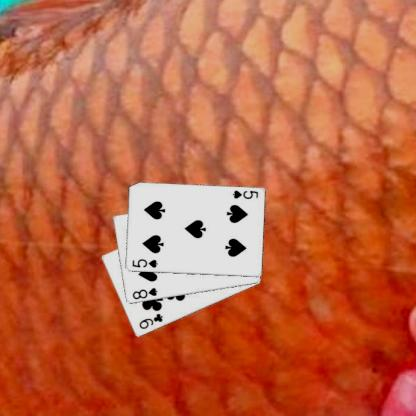5S: (129, 256, 159, 270), (230, 188, 258, 201)
8S: (130, 285, 158, 301)
9C: (136, 311, 164, 330)
